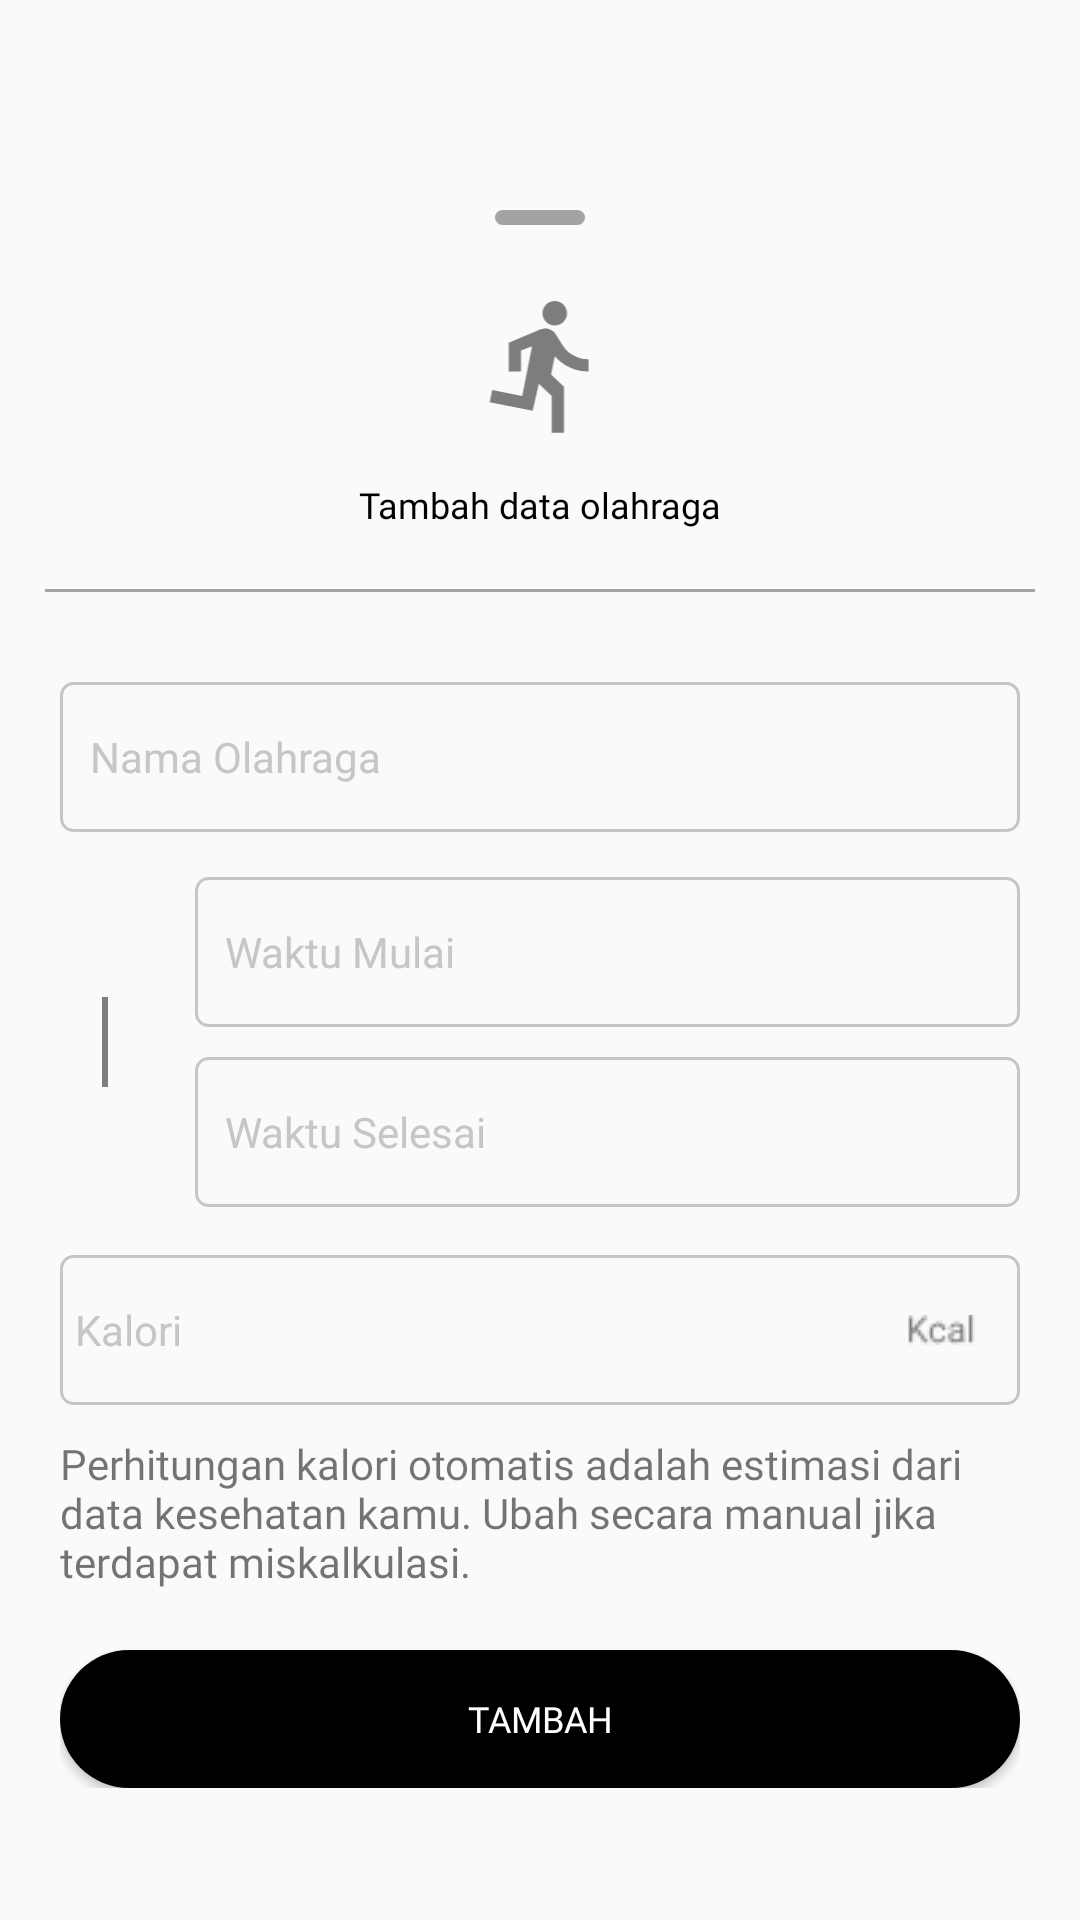

Icon bounding boxes for this 1080w x 1920h phone screenshot, format (x1, y1, x2, y2):
lari: (489, 301, 589, 433)
